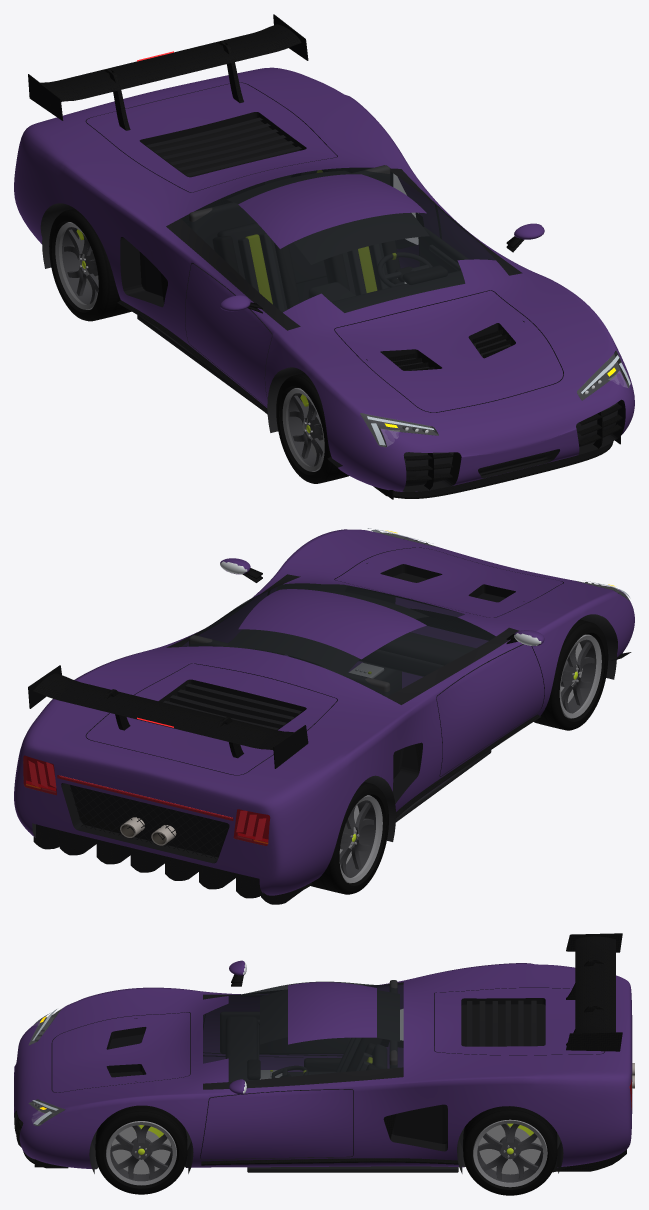
File: VortexR_complete_unity.fbx
The picture shows the model from 3 angles, top to bottom: view 1: azimuth 30°, elevation 25°; view 2: azimuth 150°, elevation 25°; view 3: azimuth 270°, elevation 25°; orthographic projection. The views are drawn at different scales.
Parts seen in each view (by area): view 1: Body_LOD0, Glass_LOD0, Trim_LOD0, Interior_LOD0, Tire_RR_LOD0, Wheel_RR_LOD0, Wheel_FR_LOD0, Tire_FR_LOD0, Lights_LOD0, SteeringWheel_LOD0; view 2: Body_LOD0, Trim_LOD0, Glass_LOD0, Interior_LOD0, Lights_LOD0, Wheel_RR_LOD0, Tire_FR_LOD0, Wheel_FR_LOD0, Tire_RR_LOD0; view 3: Body_LOD0, Glass_LOD0, Trim_LOD0, Interior_LOD0, Tire_FL_LOD0, Tire_RL_LOD0, Wheel_RL_LOD0, Wheel_FL_LOD0, BrakeDisc_RL_LOD0, BrakeDisc_FL_LOD0, Lights_LOD0.
Boxes of the visible parts, x1,y1,x2,y2 form: Body_LOD0: (14,67,634,491); Glass_LOD0: (181,167,495,312); Trim_LOD0: (28,14,622,499); Interior_LOD0: (137,165,468,410); Tire_RR_LOD0: (49,208,131,321); Wheel_RR_LOD0: (55,222,98,309); Wheel_FR_LOD0: (282,388,324,471); Tire_FR_LOD0: (276,373,349,483); Lights_LOD0: (137,51,630,445); SteeringWheel_LOD0: (377,252,432,287); Body_LOD0: (14,529,634,895); Trim_LOD0: (28,563,631,904); Glass_LOD0: (181,583,495,696); Interior_LOD0: (189,588,491,822); Lights_LOD0: (23,528,630,845); Wheel_RR_LOD0: (339,795,382,883); Tire_FR_LOD0: (534,619,608,730); Wheel_FR_LOD0: (559,634,601,718); Tire_RR_LOD0: (311,782,388,894); Body_LOD0: (14,960,632,1169); Glass_LOD0: (203,981,403,1081); Trim_LOD0: (16,933,634,1173); Interior_LOD0: (220,980,458,1172); Tire_FL_LOD0: (95,1105,187,1194); Tire_RL_LOD0: (463,1106,557,1195); Wheel_RL_LOD0: (473,1119,547,1187); Wheel_FL_LOD0: (106,1121,176,1185); BrakeDisc_RL_LOD0: (478,1125,541,1174); BrakeDisc_FL_LOD0: (111,1126,170,1174); Lights_LOD0: (32,1009,631,1124).
Size of what is drawn, in the model's own units: 2.27 by 1.27 by 4.58.
15 materials, 3 textured.
